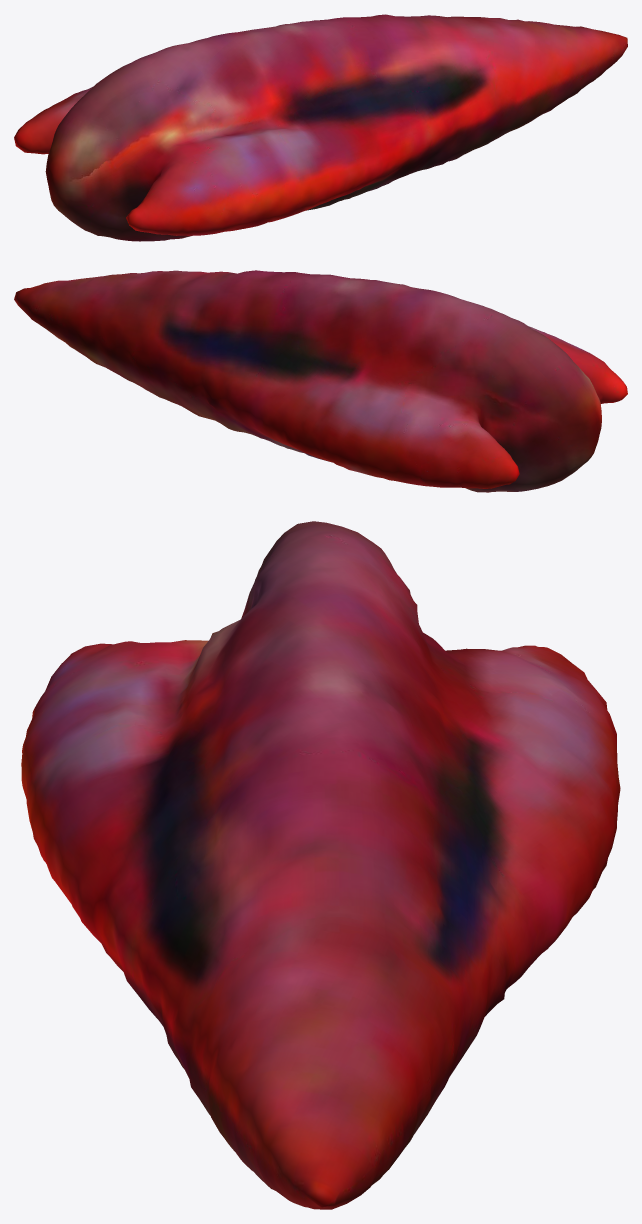
The model's file is Red_ship_4.glb.
3 views of the same model, one above another, from view 1: azimuth 30°, elevation 25°; view 2: azimuth 150°, elevation 25°; view 3: azimuth 270°, elevation 25° (orthographic). The views are drawn at different scales.
Visible parts, largest first — view 1: Mesh1; view 2: Mesh1; view 3: Mesh1.
Part boxes in pixels (x1,y1,x2,y2): Mesh1: (14, 14, 627, 241); Mesh1: (14, 270, 627, 492); Mesh1: (21, 521, 620, 1209).
Bounding box in the file's own units: 1.2 × 0.3626 × 0.5376.
Materials: 1 (1 with a texture image).
